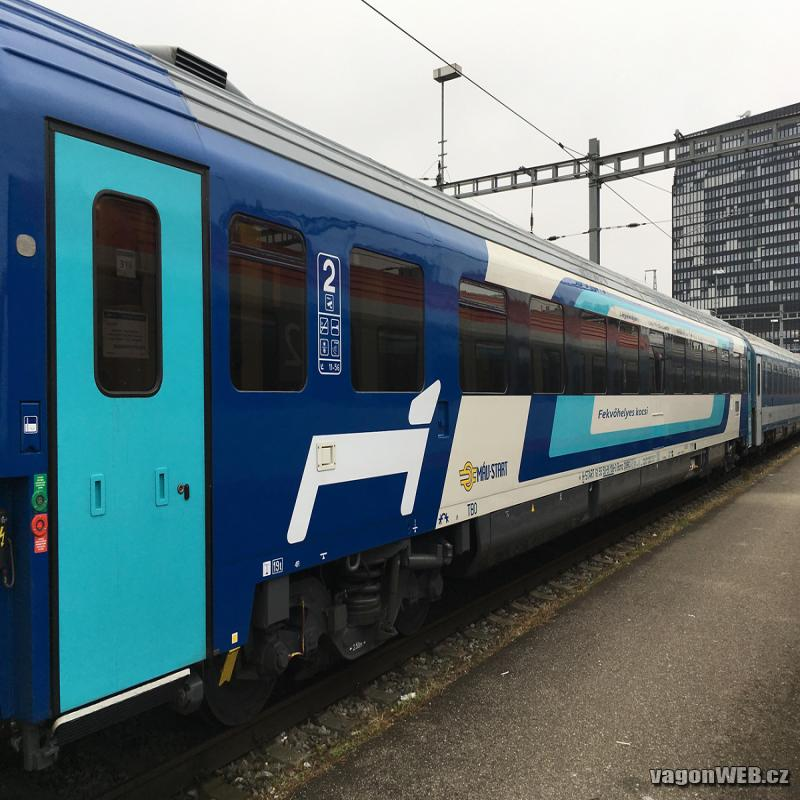train: (2, 1, 754, 800)
